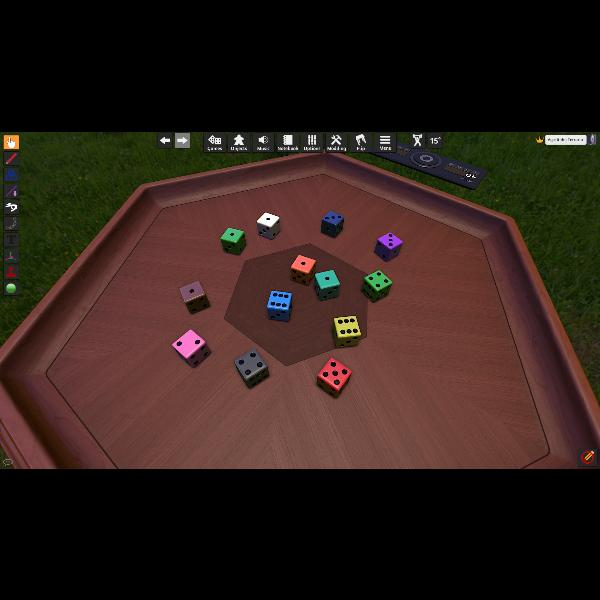d6: (172, 328, 210, 366), (316, 357, 352, 397), (234, 348, 268, 388), (179, 280, 209, 314), (361, 270, 391, 302), (332, 315, 360, 346), (266, 290, 292, 320), (312, 270, 338, 300), (374, 231, 400, 261), (220, 227, 246, 255), (290, 255, 314, 285), (320, 210, 344, 238), (256, 211, 280, 239)
